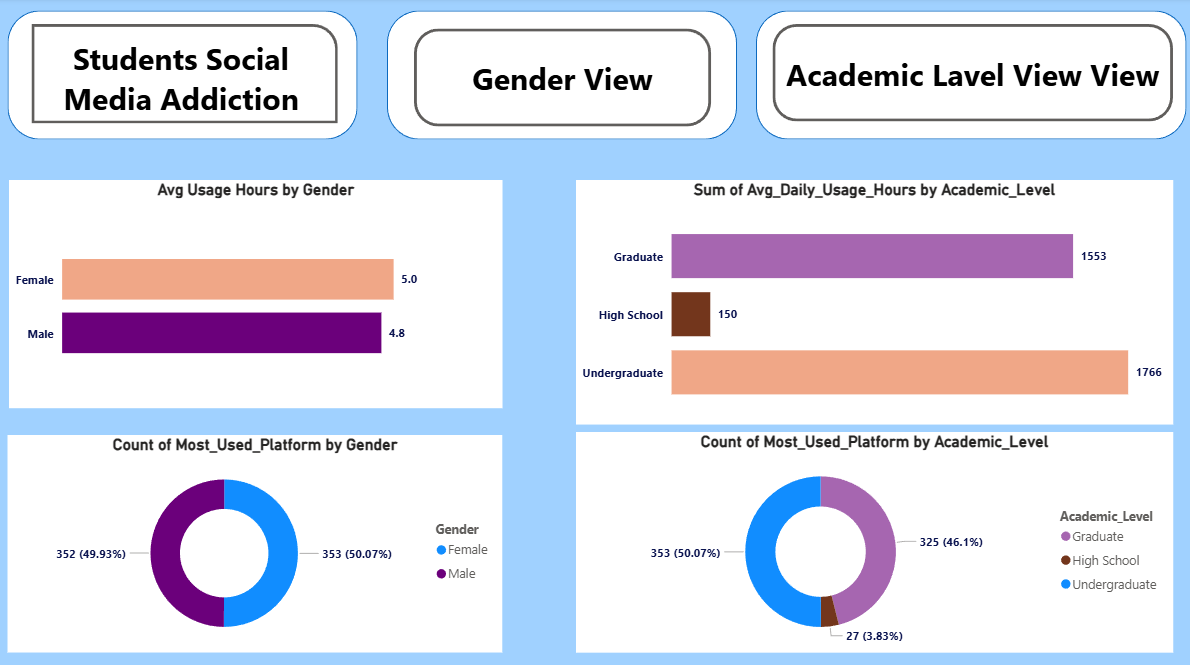

The dashboard page shown, as its layout file describes it:
{"tool":"powerbi","page":{"name":"interactive Story view","canvas":[1280,720],"ordinal":4},"visuals":[{"type":"shape","box":[808,14.3,456.5,136.8],"z":0},{"type":"shape","box":[14.8,14.8,371.1,136.9],"z":1000},{"type":"barChart","fields":{"Y":["Platform Details.Avg Usage Hours"],"Category":["Student Details.Gender"]},"box":[15.9,194.1,523.3,241.8],"z":2000},{"type":"donutChart","fields":{"Category":["Student Details.Gender"],"Y":["CountNonNull(Platform Details.Most_Used_Platform)"]},"box":[14.3,464.5,524.9,230.6],"z":3000},{"type":"barChart","fields":{"Y":["Sum(Platform Details.Avg_Daily_Usage_Hours)"],"Category":["Student Details.Academic_Level"]},"box":[617.2,194.1,633.1,259.3],"z":4000},{"type":"donutChart","fields":{"Y":["CountNonNull(Platform Details.Most_Used_Platform)"],"Category":["Student Details.Academic_Level"]},"box":[617.2,461.3,633.1,233.8],"z":5000},{"type":"shape","box":[417.3,14.8,371.1,136.9],"z":6000},{"type":"actionButton","box":[445.4,33,315.1,103.9],"z":7000},{"type":"actionButton","box":[825.5,28.6,424.7,103.4],"z":8000},{"type":"actionButton","box":[39.6,28,324.9,105.6],"z":9000}]}

Visuals, with their boxes in screenshot pixels (x1, y1, x2, y2), scaled from the page's 1280x720 canvas onto the 1190x665 screenshot:
shape: 751, 13, 1176, 140
shape: 14, 14, 359, 140
barChart - Platform Details.Avg Usage Hours x Student Details.Gender: 15, 179, 501, 403
donutChart - Student Details.Gender x CountNonNull(Platform Details.Most_Used_Platform): 13, 429, 501, 642
barChart - Sum(Platform Details.Avg_Daily_Usage_Hours) x Student Details.Academic_Level: 574, 179, 1162, 419
donutChart - CountNonNull(Platform Details.Most_Used_Platform) x Student Details.Academic_Level: 574, 426, 1162, 642
shape: 388, 14, 733, 140
actionButton: 414, 30, 707, 126
actionButton: 767, 26, 1162, 122
actionButton: 37, 26, 339, 123
